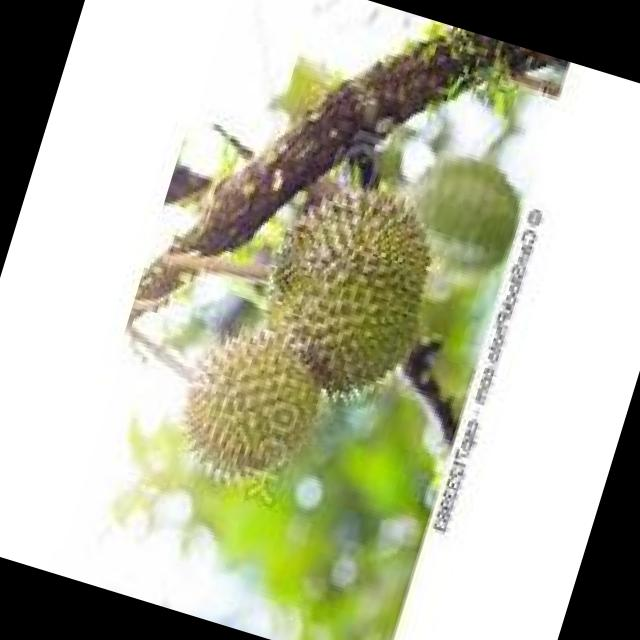fruit: (172, 134, 483, 540)
